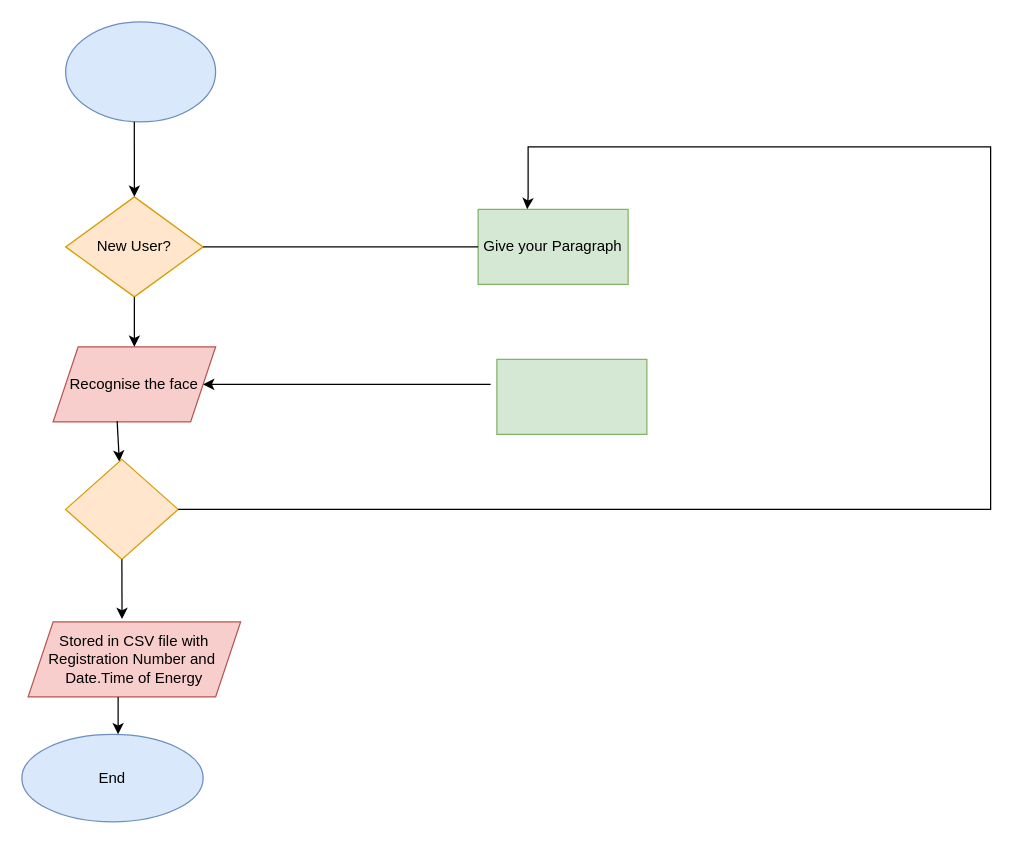
The diagram is 1023 pixels wide and 844 high, and some of its shapes have lost their labels. The shapes that lost their labels are listed below. From the top down, each one's centre as x and y in pixels, then its label:
At point 140,71: "Start".
At point 571,396: "Store the face data in folder on your name".
At point 121,508: "Face Recognized".
